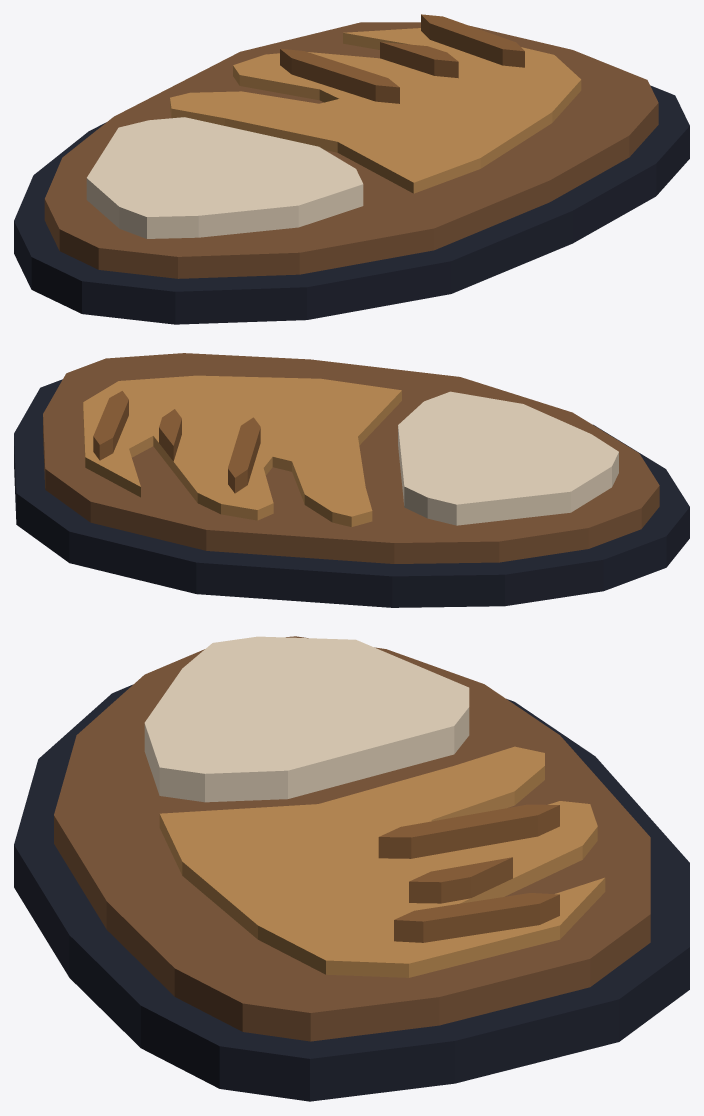
The model's file is bread.fbx.
The picture shows the model from 3 angles, top to bottom: view 1: azimuth 30°, elevation 25°; view 2: azimuth 150°, elevation 25°; view 3: azimuth 270°, elevation 25°; orthographic projection. The views are drawn at different scales.
Visible parts, largest first — view 1: bread; view 2: bread; view 3: bread.
Part boxes in pixels (x1,y1,x2,y2): bread: (14,14,689,324); bread: (14,353,689,607); bread: (14,636,689,1101).
Bounding box in the file's own units: 1.24 × 0.15 × 0.8604.
1 material, 1 textured.
